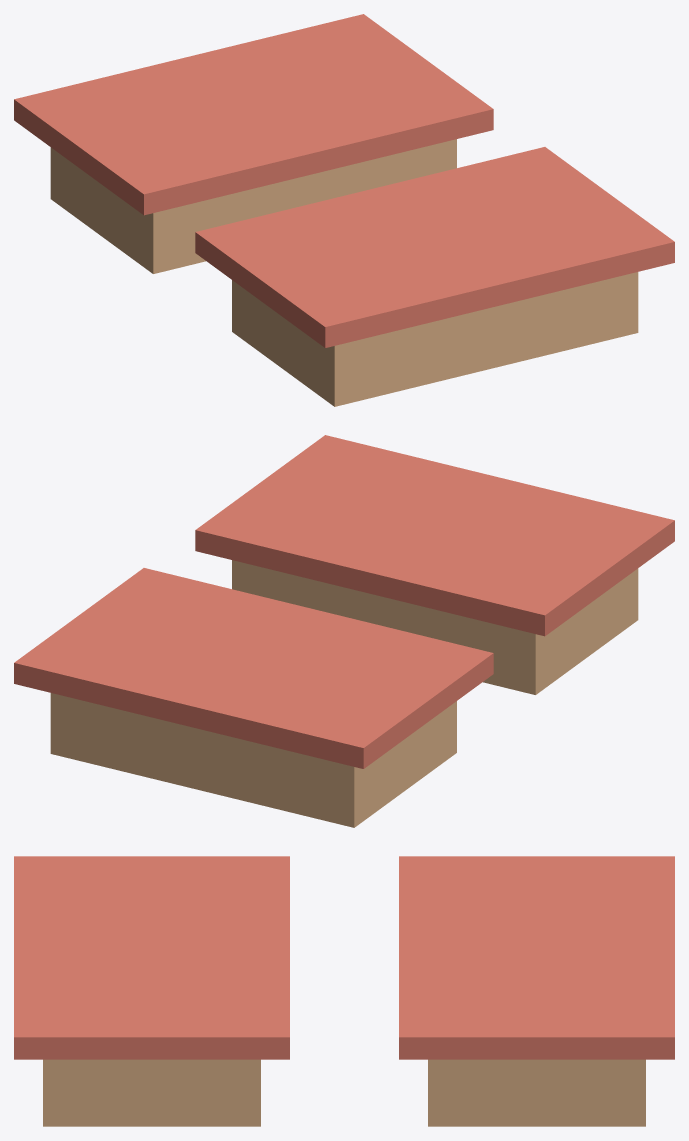
Rendered from sushi2.glb.
3 views of the same model, one above another, from view 1: azimuth 30°, elevation 25°; view 2: azimuth 150°, elevation 25°; view 3: azimuth 270°, elevation 25° (orthographic). The views are drawn at different scales.
Visible parts, largest first — view 1: Plane.002, Plane.001, Cube.003, Cube.002; view 2: Plane.001, Plane.002, Cube.002, Cube.003; view 3: Plane.001, Plane.002, Cube.002, Cube.003.
Boxes of the visible parts, left/top/right/bottom form: Plane.002: left=195, top=147, right=674, bottom=347; Plane.001: left=14, top=14, right=493, bottom=215; Cube.003: left=232, top=272, right=638, bottom=406; Cube.002: left=50, top=139, right=456, bottom=273; Plane.001: left=14, top=568, right=493, bottom=768; Plane.002: left=195, top=435, right=674, bottom=636; Cube.002: left=50, top=693, right=456, bottom=827; Cube.003: left=232, top=560, right=638, bottom=694; Plane.001: left=399, top=856, right=674, bottom=1059; Plane.002: left=14, top=856, right=289, bottom=1059; Cube.002: left=428, top=1059, right=645, bottom=1126; Cube.003: left=43, top=1059, right=260, bottom=1126.
Size of the model in its own units: 1.65 by 0.4291 by 2.54.
